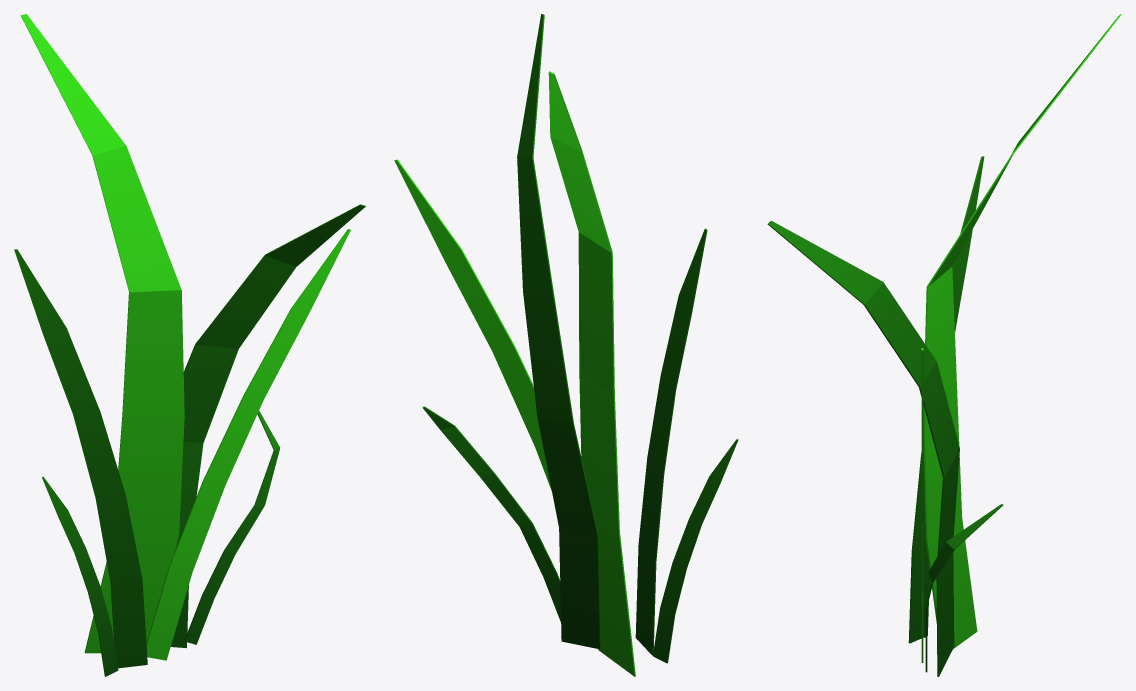
Rendered from PlantMed.fbx.
3 renders of one model, left to right at view 1: azimuth 30°, elevation 25°; view 2: azimuth 150°, elevation 25°; view 3: azimuth 270°, elevation 25°, orthographic. The views are drawn at different scales.
Visible parts, largest first — view 1: PlantMed; view 2: PlantMed; view 3: PlantMed.
Part boxes in pixels (box(x1,y1,x2,y2)): PlantMed: box(14, 14, 365, 676); PlantMed: box(394, 14, 738, 676); PlantMed: box(767, 14, 1121, 676).
Size of the model in its own units: 0.6085 by 1.12 by 0.5743.
Materials: 1 (1 with a texture image).
